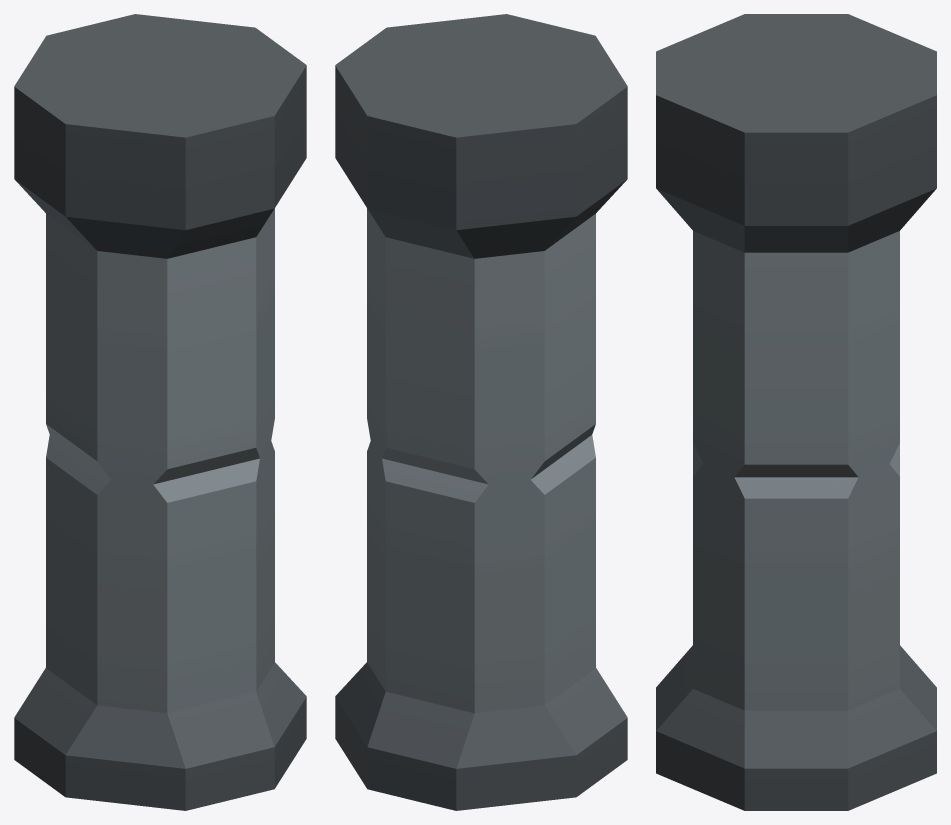
File: pillar.glb
The picture shows the model from 3 angles, left to right: view 1: azimuth 30°, elevation 25°; view 2: azimuth 150°, elevation 25°; view 3: azimuth 270°, elevation 25°; orthographic projection.
Parts seen in each view (by area): view 1: pillar; view 2: pillar; view 3: pillar.
Boxes of the visible parts, bbox=[...] form: pillar: bbox=[14, 14, 306, 810]; pillar: bbox=[335, 14, 627, 810]; pillar: bbox=[656, 14, 936, 810].
Bounding box in the file's own units: 1.5 × 4 × 1.5.
1 material, 1 textured.
